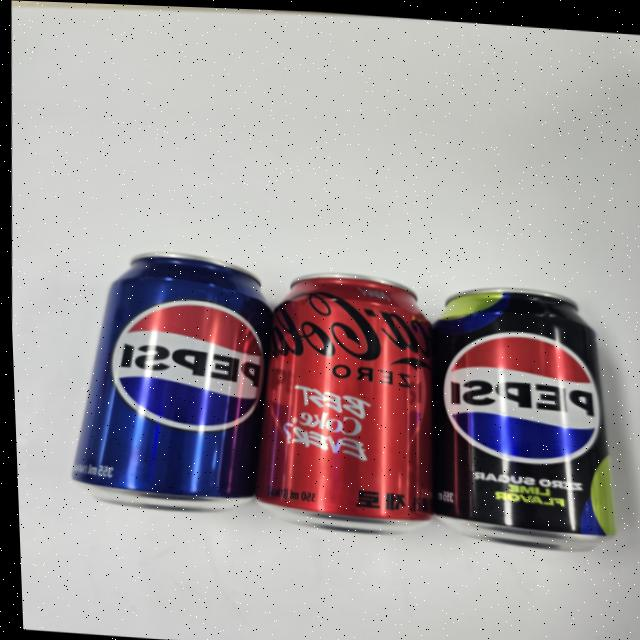can_coke_zero: (255, 275, 436, 534)
can_pepsi: (70, 251, 273, 512)
can_pepsi_zero: (428, 286, 616, 553)
